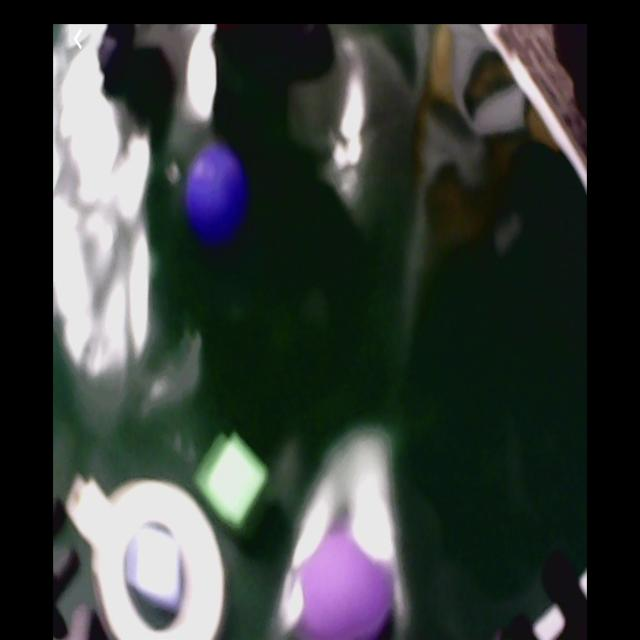ball: (300, 528, 394, 640), (187, 147, 248, 239)
